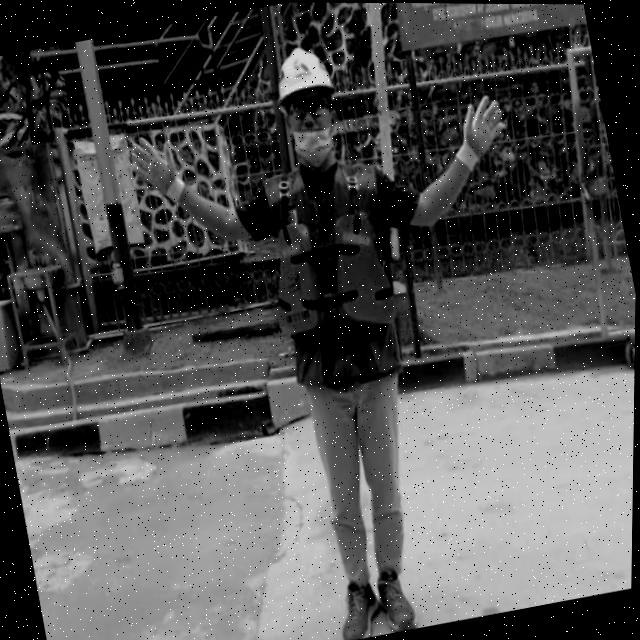goggles_on: (282, 92, 336, 124)
